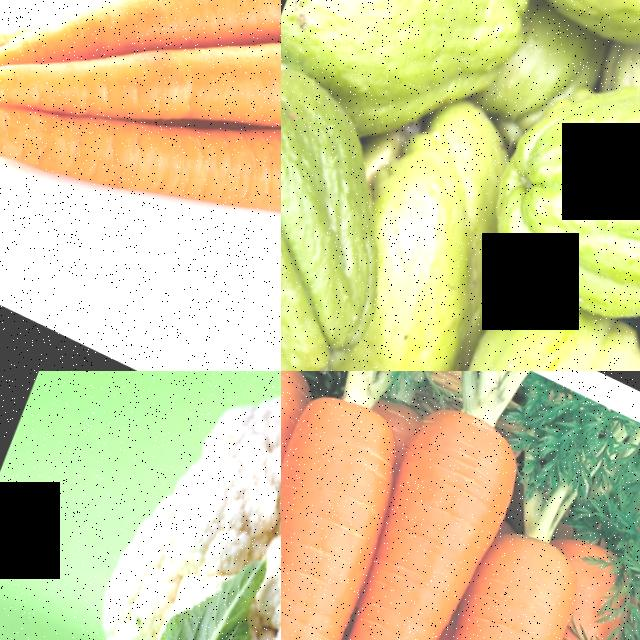carrot: (281, 371, 528, 640), (281, 371, 426, 640), (352, 505, 568, 640)
cauliflower: (32, 371, 281, 640)
chayote: (481, 29, 640, 329), (281, 84, 435, 371), (281, 0, 537, 160), (422, 262, 640, 371), (503, 0, 640, 82)
